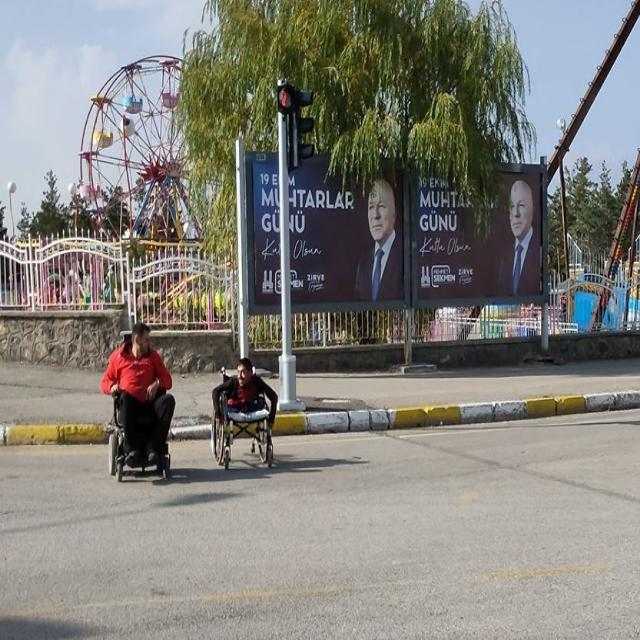wheelchairs: (100, 353, 176, 486), (213, 372, 281, 475)
